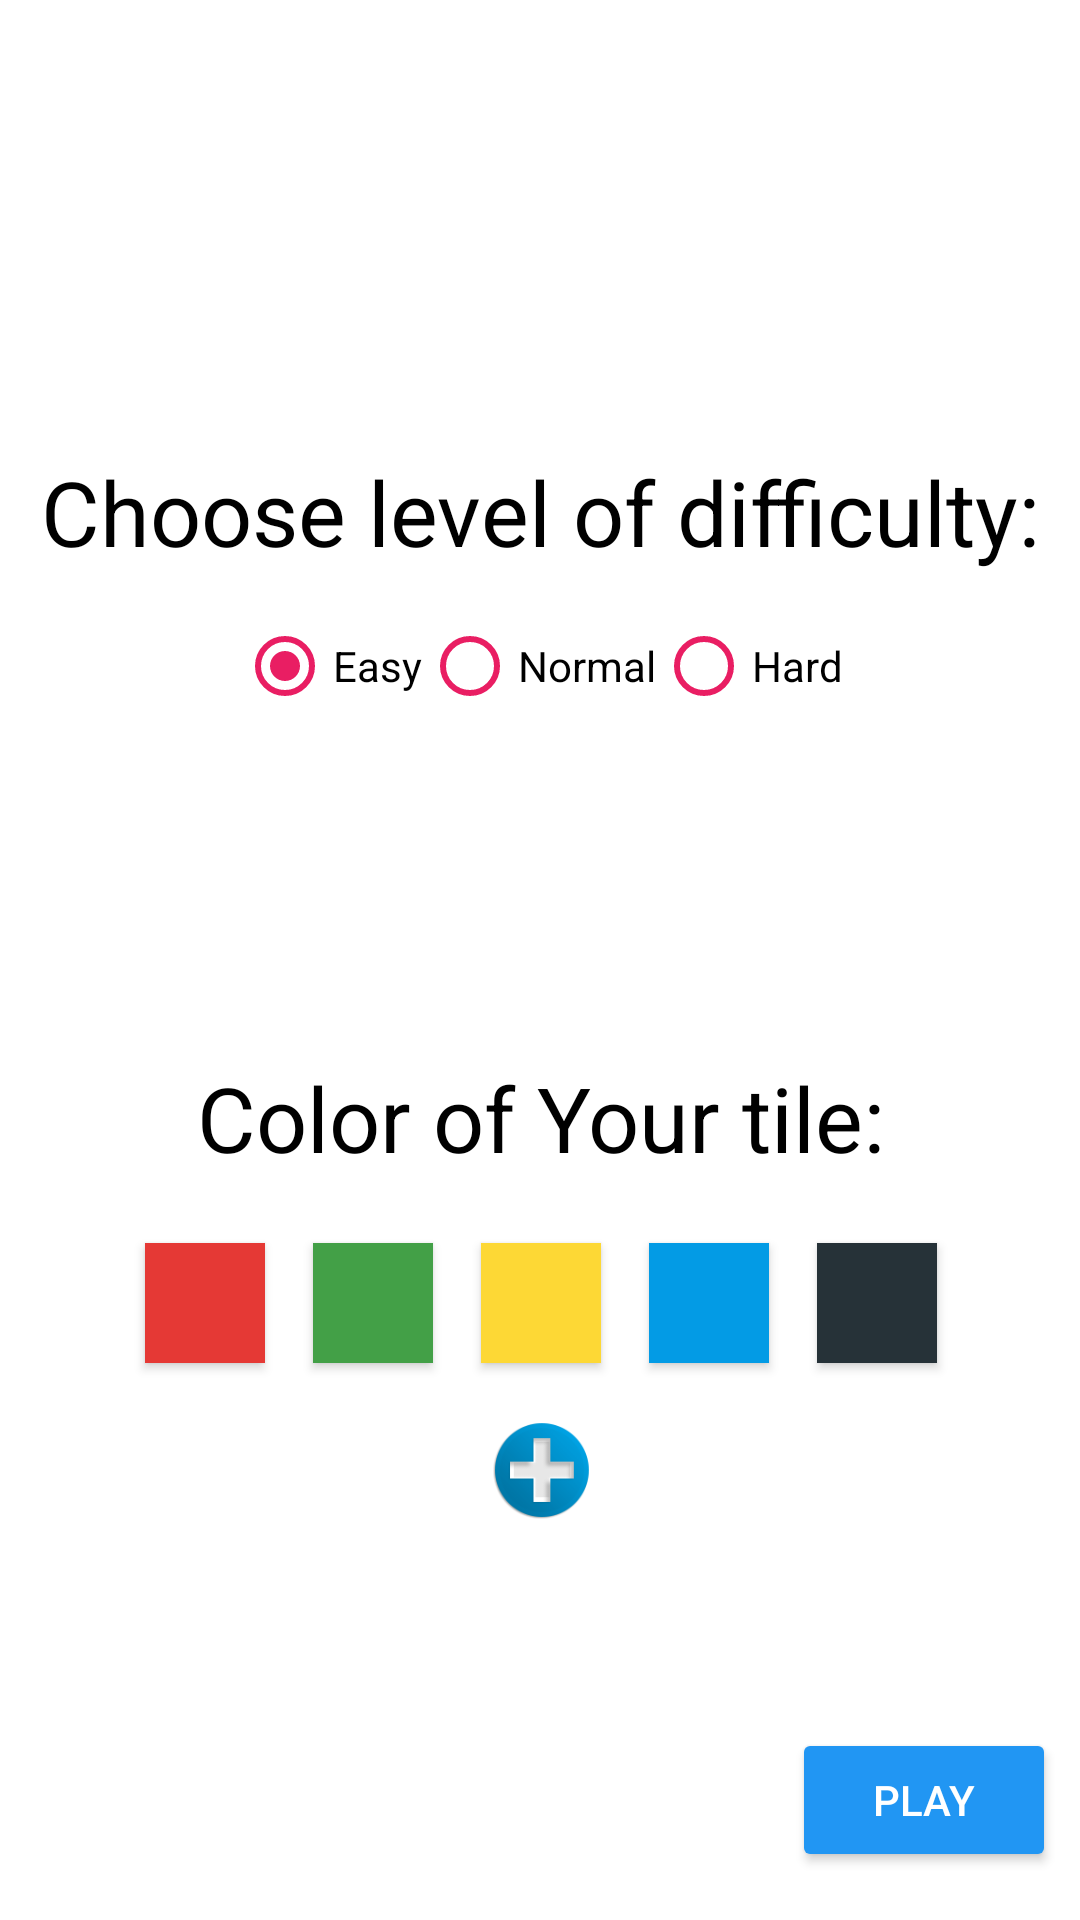

Where to tap for icons on this 1080x1920 app screen, as (x=x, y=y):
plus sign: (x=541, y=1470)
